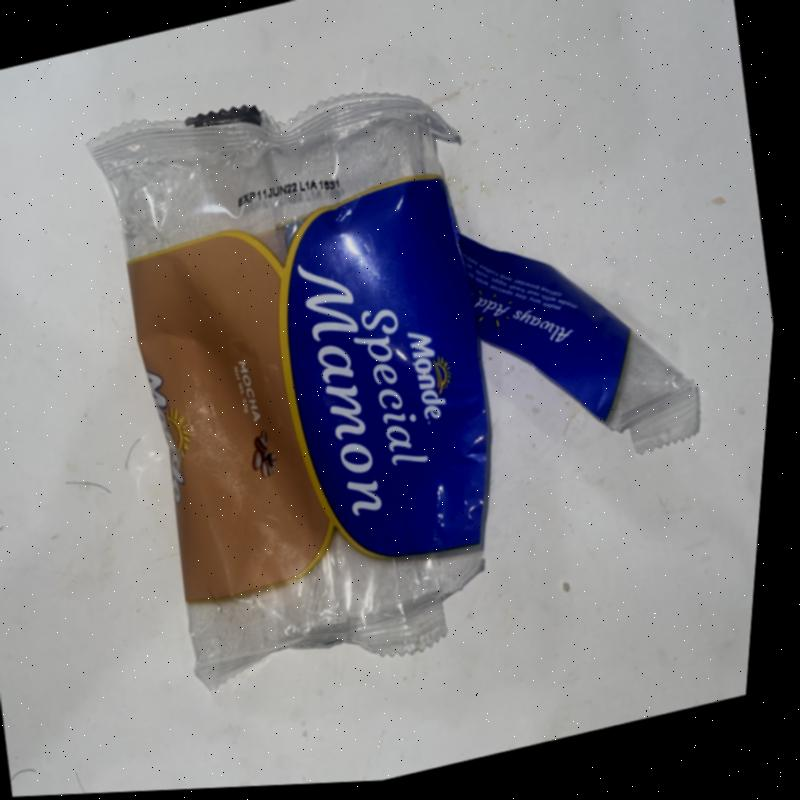food wrapper: (85, 89, 699, 689)
